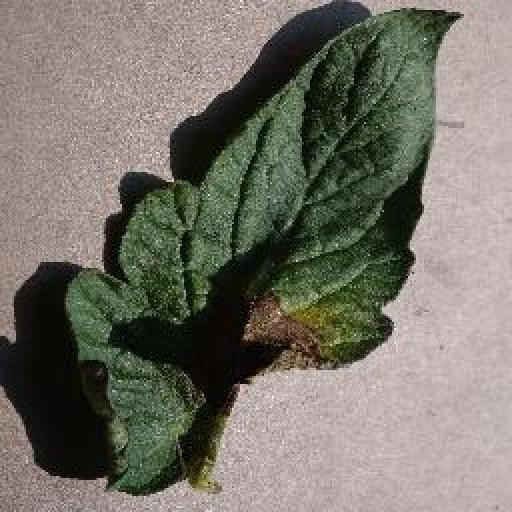disease_tomato: (64, 6, 465, 502)
